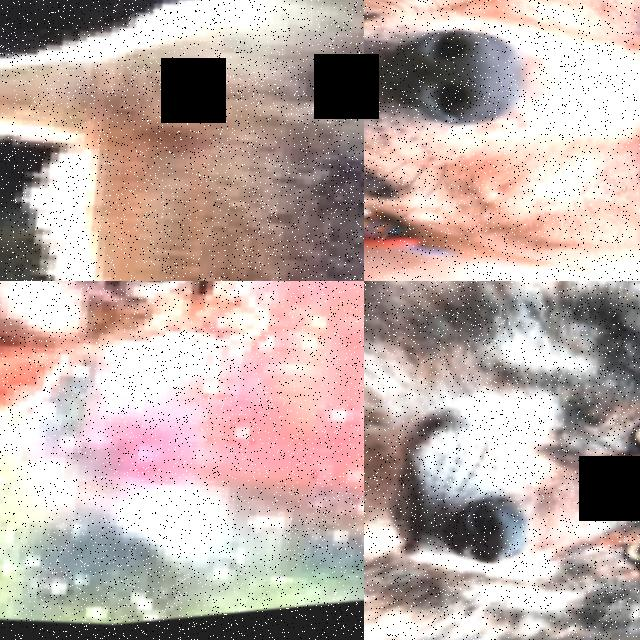dog: (0, 281, 361, 523), (364, 0, 640, 281)
wolf: (0, 0, 364, 281), (364, 281, 640, 640)
